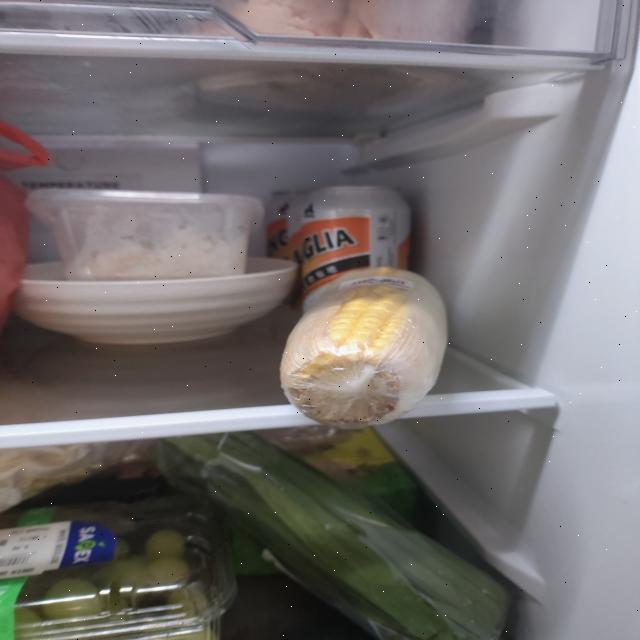corn: (280, 266, 450, 430)
grape: (14, 508, 218, 640)
leafy_greens: (154, 432, 512, 640)
